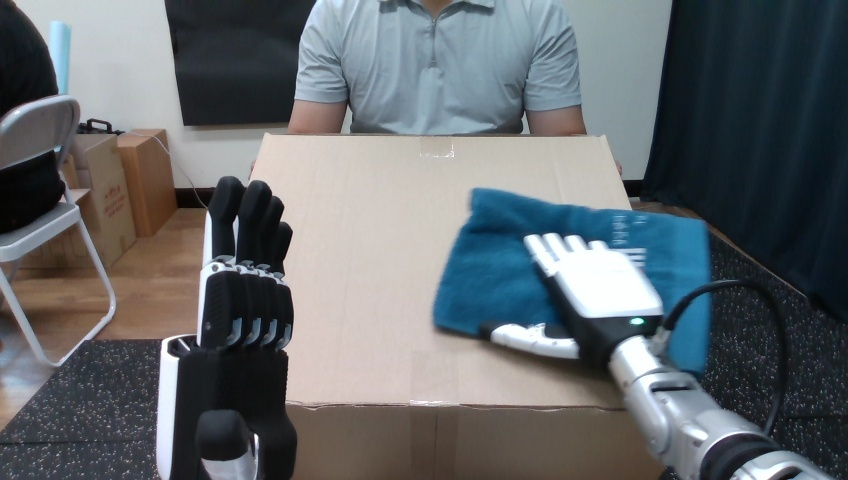left robot hand: (156, 177, 296, 478), (708, 235, 847, 477), (701, 288, 776, 425)
